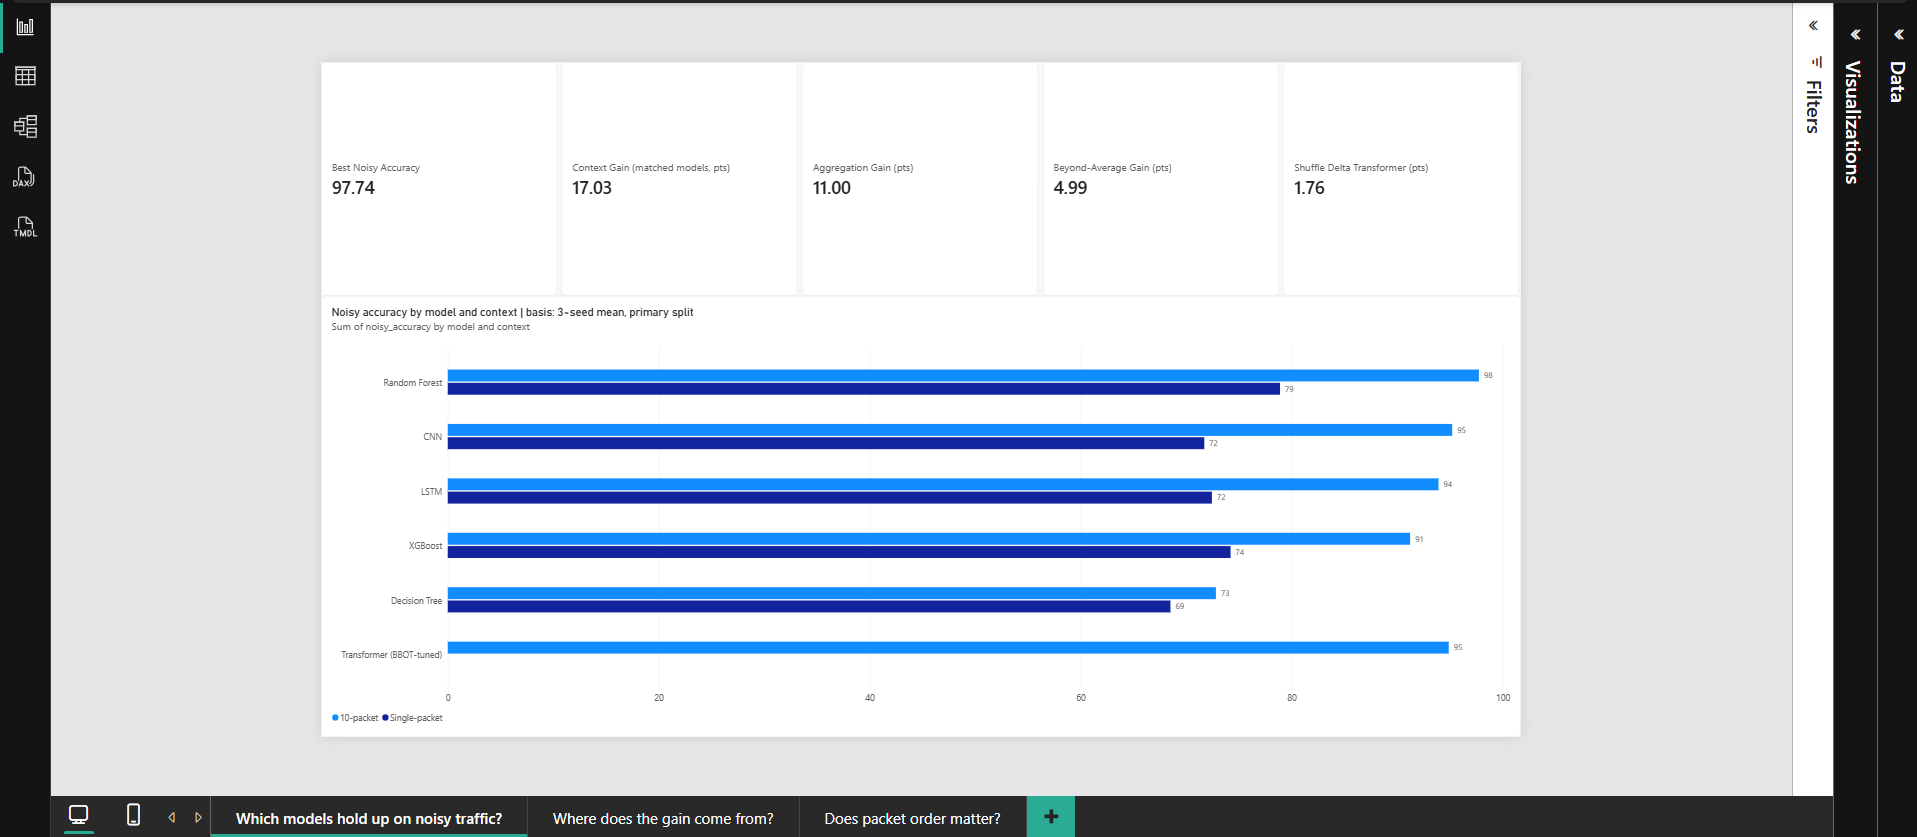

What the dashboard file says about the page in this screenshot:
{"tool":"powerbi","page":{"name":"Which models hold up on noisy traffic?","canvas":[1920,1080],"ordinal":0},"visuals":[{"type":"cardVisual","fields":{"Data":["fact_wifi_model_results.Best Noisy Accuracy","fact_wifi_model_results.Context Gain (matched models, pts)","fact_wifi_model_results.Aggregation Gain (pts)","fact_wifi_model_results.Beyond-Average Gain (pts)","fact_wifi_model_results.Shuffle Delta Transformer (pts)"]},"box":[0,0,1751.6,279.9],"z":0},{"type":"clusteredBarChart","title":"Noisy accuracy by model and context | basis: 3-seed mean, primary split","fields":{"Category":["fact_wifi_model_results.model"],"Series":["fact_wifi_model_results.context"],"Y":["Sum(fact_wifi_model_results.noisy_accuracy)"]},"box":[0,288.4,1752.1,394.2],"z":1}]}

Visuals, with their boxes on the page's 1920x1080 design canvas (x1, y1, x2, y2). These are canvas units, not pixel positions in the 1917x837 screenshot, which may show the page scaled, cropped or inside an application window:
cardVisual - fact_wifi_model_results.Best Noisy Accuracy x fact_wifi_model_results.Context Gain (matched models, pts): bbox=[0, 0, 1752, 280]
"Noisy accuracy by model and context | basis: 3-seed mean, primary split" clusteredBarChart: bbox=[0, 288, 1752, 683]
